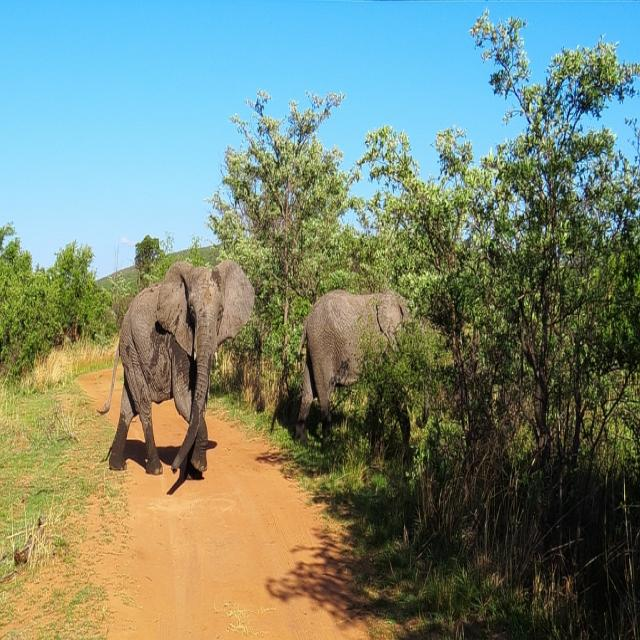elephant: (102, 252, 216, 482), (292, 294, 420, 454)
